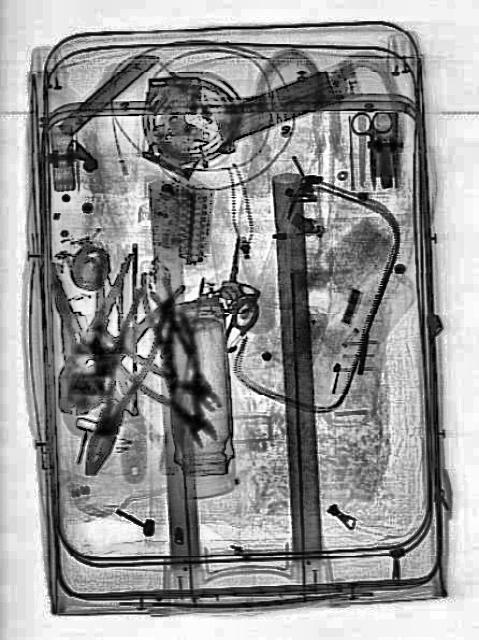Pliers: (34, 235, 186, 437), (109, 304, 243, 474), (66, 282, 175, 484), (112, 274, 246, 436)
